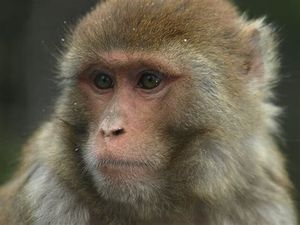monkey: (39, 1, 288, 225)
